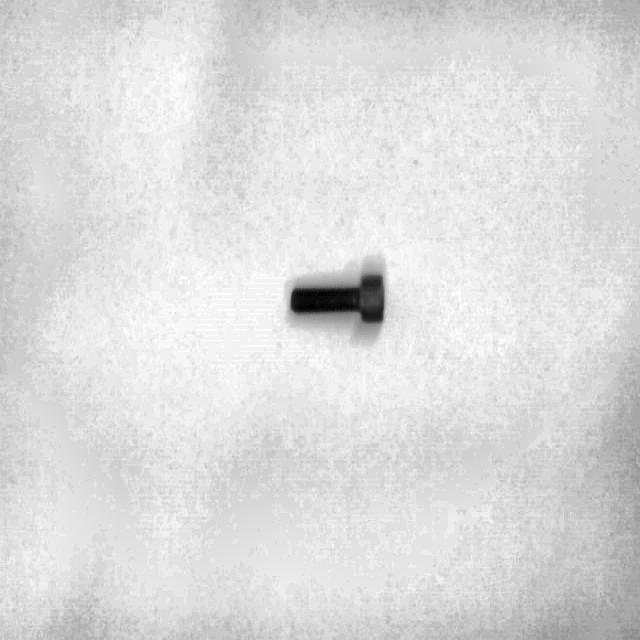Socket head cap screw: (288, 271, 385, 324)
